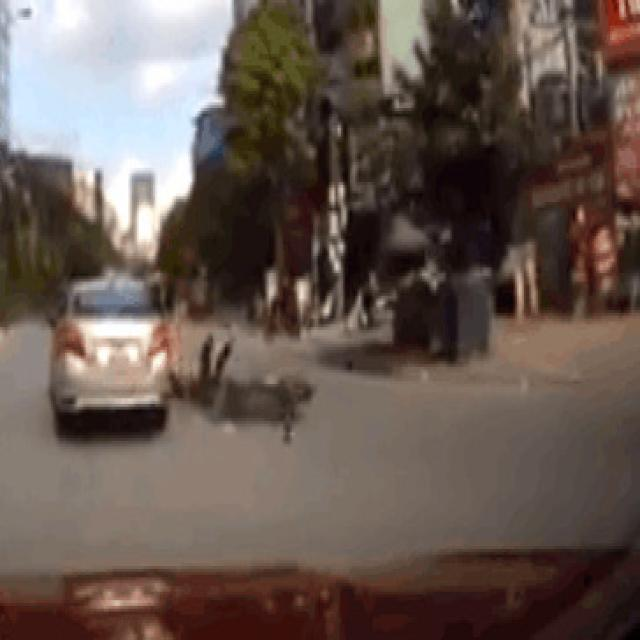multiple_accident: (44, 267, 319, 448)
